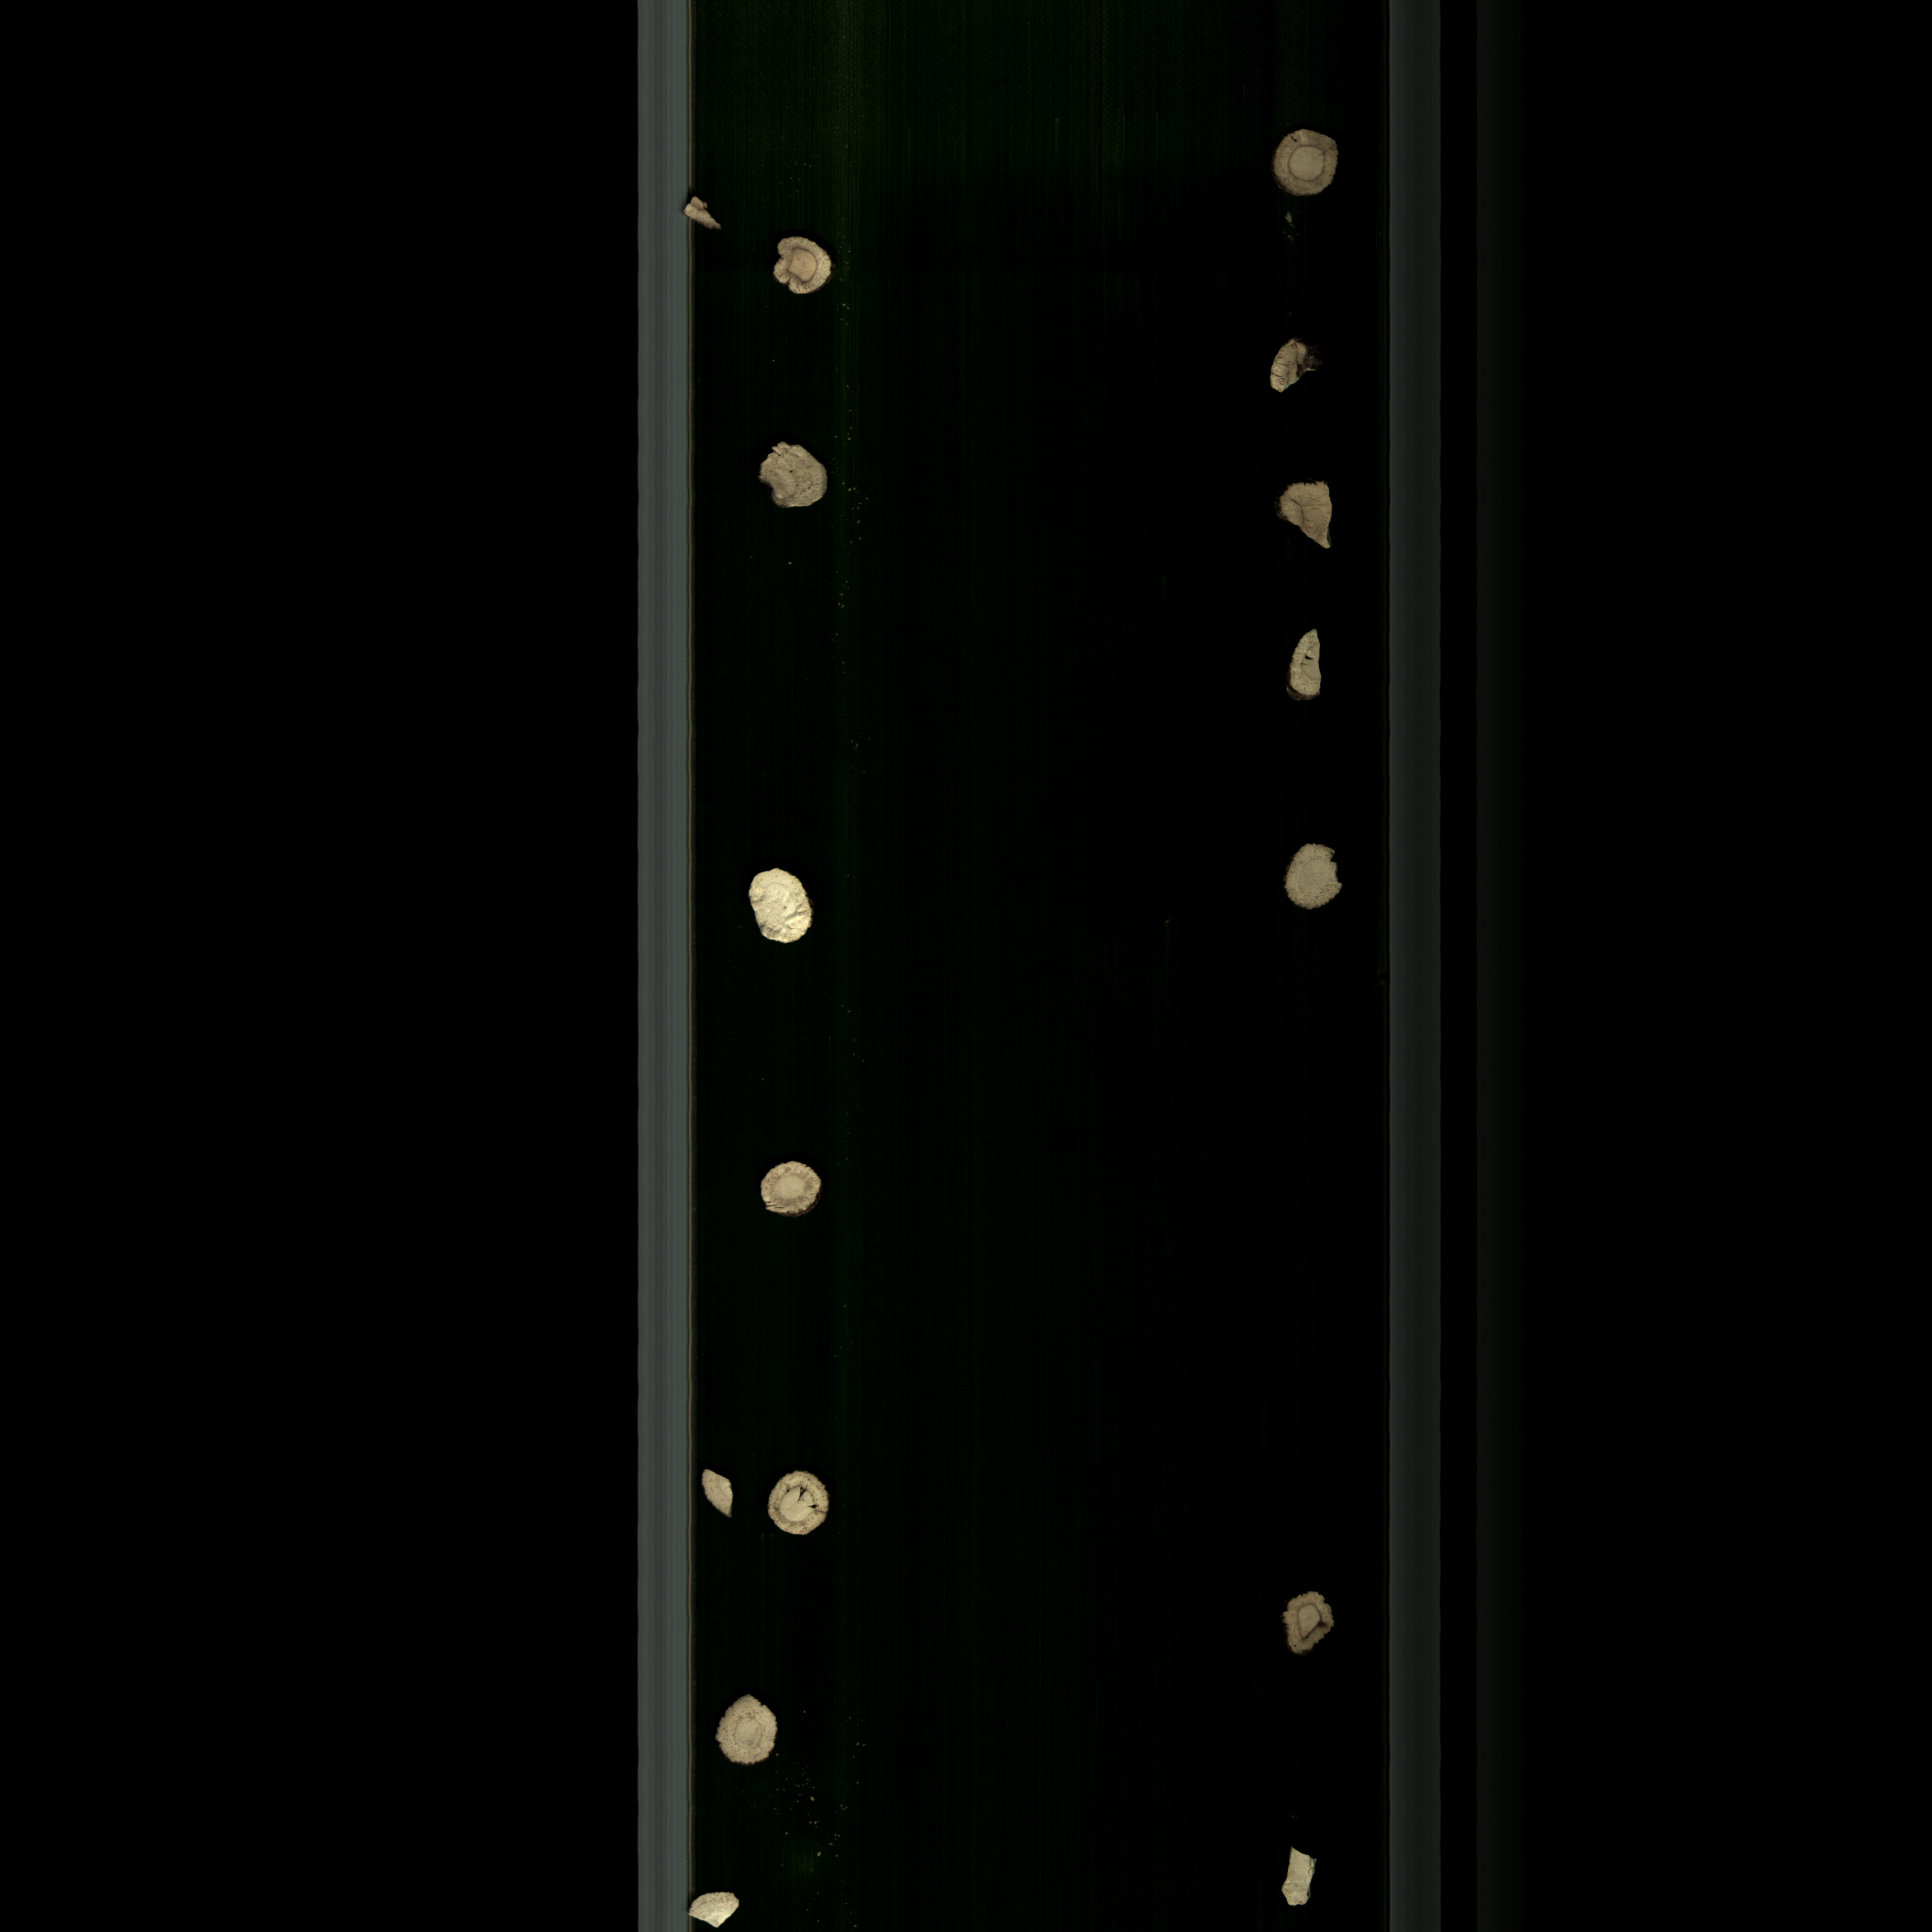debris: (1270, 474, 1353, 557), (1274, 833, 1355, 915), (752, 441, 837, 515), (1276, 625, 1339, 702)
dreg: (1277, 1836, 1325, 1914), (694, 1458, 745, 1518), (690, 1886, 754, 1930), (674, 189, 724, 237)
hole: (752, 1463, 842, 1539)
moldy: (1263, 117, 1346, 203), (763, 225, 842, 311), (1270, 1585, 1346, 1663), (752, 1157, 832, 1228), (1267, 331, 1327, 402)
